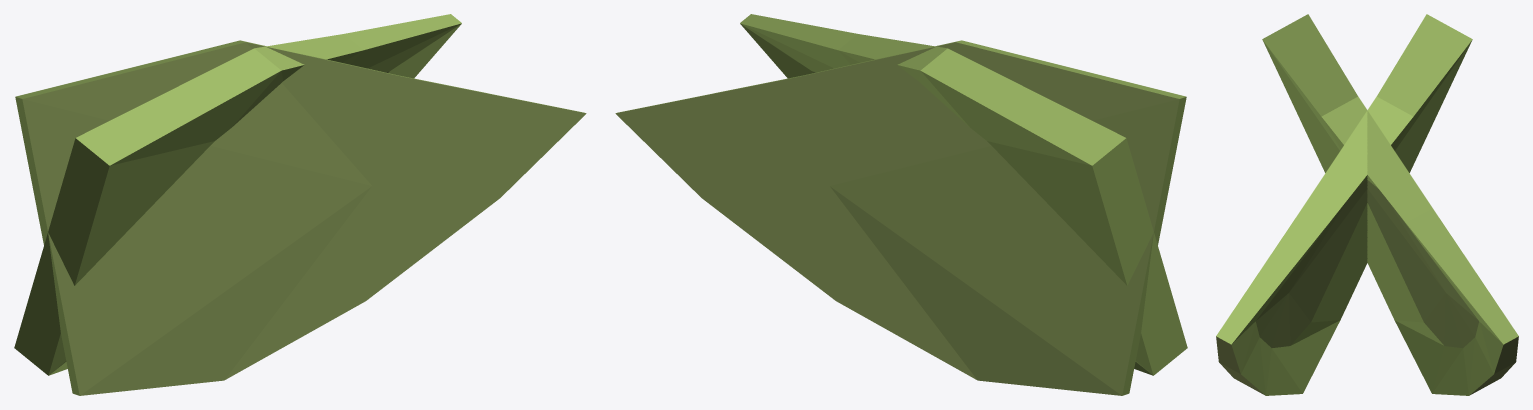
Rendered from gb_wide.glb.
The picture shows the model from 3 angles, left to right: view 1: azimuth 30°, elevation 25°; view 2: azimuth 150°, elevation 25°; view 3: azimuth 270°, elevation 25°; orthographic projection. The views are drawn at different scales.
Parts seen in each view (by area): view 1: Ear_R, Ear_L; view 2: Ear_L, Ear_R; view 3: Ear_L, Ear_R.
Boxes of the visible parts, bbox=[...] form: Ear_R: bbox=[15, 40, 586, 395]; Ear_L: bbox=[14, 14, 461, 375]; Ear_L: bbox=[615, 40, 1186, 395]; Ear_R: bbox=[740, 14, 1187, 375]; Ear_L: bbox=[1262, 14, 1518, 395]; Ear_R: bbox=[1216, 14, 1472, 395].
Bounding box in the file's own units: 0.104 × 0.0619 × 0.0514.
1 material, 1 textured.
